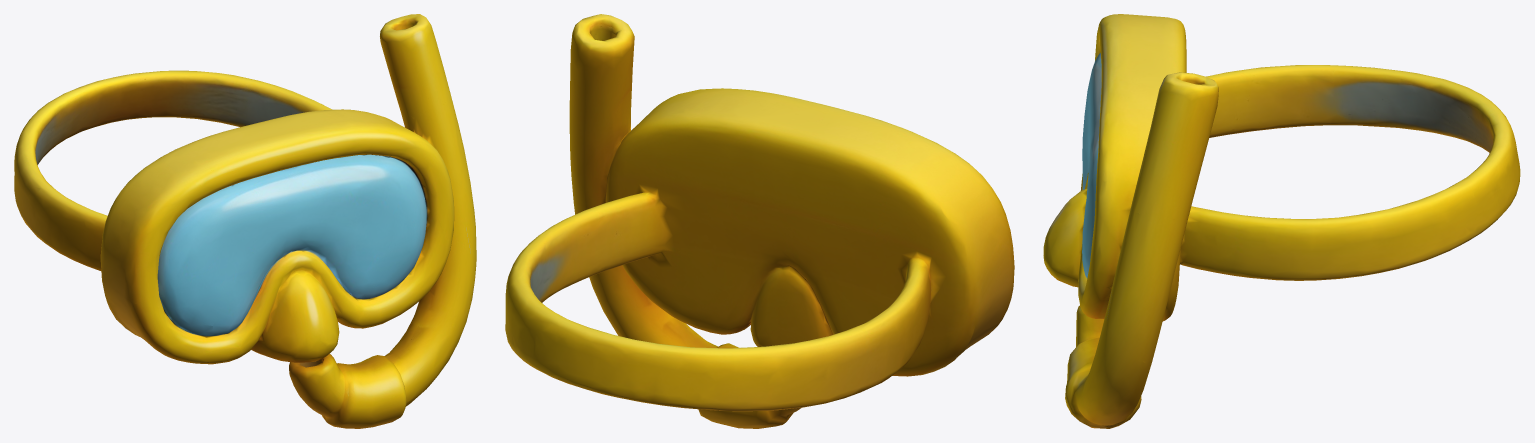
The model's file is cs-diver-mask.glb.
The picture shows the model from 3 angles, left to right: view 1: azimuth 30°, elevation 25°; view 2: azimuth 150°, elevation 25°; view 3: azimuth 270°, elevation 25°; orthographic projection. The views are drawn at different scales.
Parts seen in each view (by area): view 1: tripo_node_2aca92ed-5939-4d98-81cd-565f77e0ea0e; view 2: tripo_node_2aca92ed-5939-4d98-81cd-565f77e0ea0e; view 3: tripo_node_2aca92ed-5939-4d98-81cd-565f77e0ea0e.
Boxes of the visible parts, x1,y1,x2,y2 form: tripo_node_2aca92ed-5939-4d98-81cd-565f77e0ea0e: (14, 14, 476, 428); tripo_node_2aca92ed-5939-4d98-81cd-565f77e0ea0e: (505, 14, 1014, 428); tripo_node_2aca92ed-5939-4d98-81cd-565f77e0ea0e: (1043, 14, 1520, 428).
Bounding box in the file's own units: 0.9456 × 0.8922 × 1.
1 material, 1 textured.
